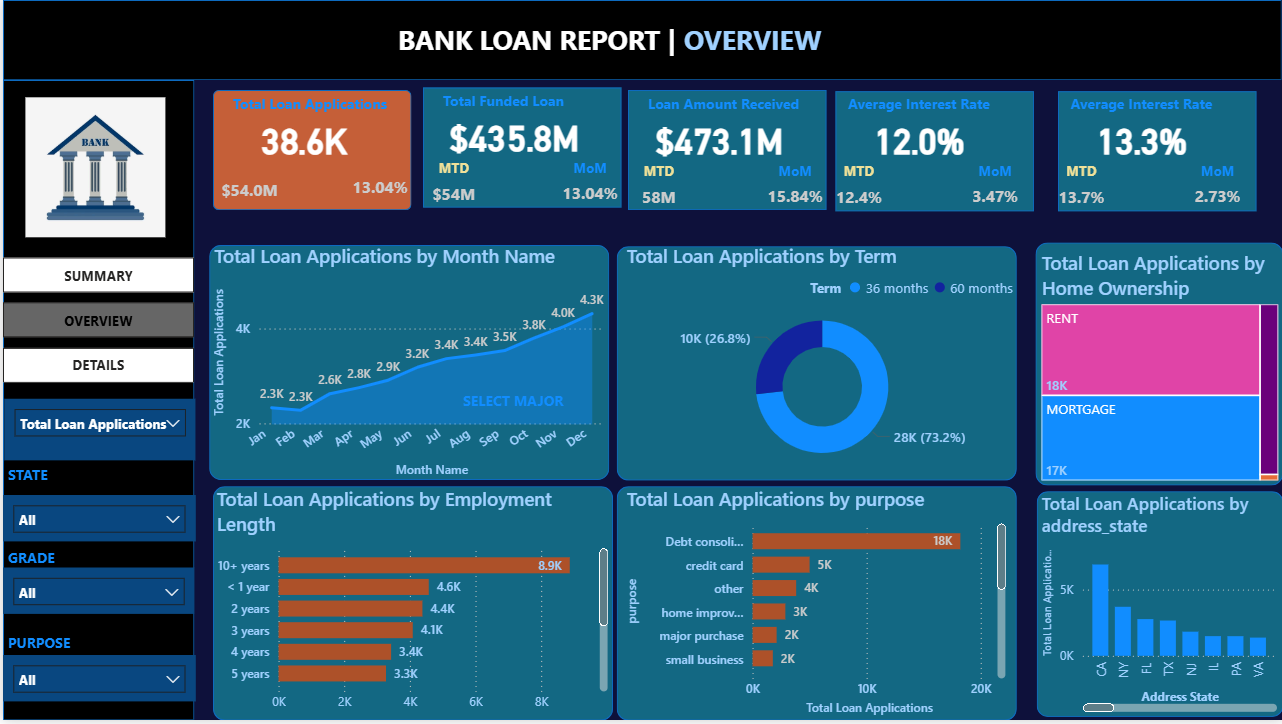

What the dashboard file says about the page in this screenshot:
{"tool":"powerbi","page":{"name":"OVERVIEW","canvas":[1280,720],"ordinal":1},"visuals":[{"type":"shape","box":[0,0,1278.8,80.3],"z":0},{"type":"shape","box":[419.6,87.3,198.5,120.2],"z":0,"group":"g2"},{"type":"shape","box":[209.8,89.7,198.5,120.2],"z":0,"group":"g1"},{"type":"shape","box":[624.5,89.7,198.5,120.2],"z":0,"group":"g3"},{"type":"shape","box":[831.5,90.4,198.5,120.2],"z":0,"group":"g4"},{"type":"shape","box":[1054.9,90.4,198.5,120.2],"z":0,"group":"g5"},{"type":"shape","box":[0,79.8,191.4,640.5],"z":1000},{"type":"card","fields":{"Values":["Date Table.Total Funded Amount"]},"box":[434.5,102.2,152.6,67.5],"z":1000,"group":"g2"},{"type":"card","fields":{"Values":["financial_loan_data_excel.Total Loan Applications"]},"box":[224.7,104.6,152.6,67.5],"z":1000,"group":"g1"},{"type":"card","fields":{"Values":["financial_loan_data_excel.Total Amount Received"]},"box":[639.4,104.6,152.6,67.5],"z":1000,"group":"g3"},{"type":"card","fields":{"Values":["financial_loan_data_excel.Average_Interest_Rate"]},"box":[839.4,104.6,152.6,67.5],"z":1000,"group":"g4"},{"type":"card","fields":{"Values":["financial_loan_data_excel.Average_Interest_DTI"]},"box":[1062.8,104.6,152.6,67.5],"z":1000,"group":"g5"},{"type":"textbox","box":[389.7,16.5,447.3,46.7],"z":2000},{"type":"textbox","box":[435,85.9,182.5,31.6],"z":2000,"group":"g2"},{"type":"textbox","box":[225.2,88.3,182.5,31.6],"z":2000,"group":"g1"},{"type":"textbox","box":[639.9,88.3,182.5,31.6],"z":2000,"group":"g3"},{"type":"textbox","box":[839.9,88.3,182.5,31.6],"z":2000,"group":"g4"},{"type":"textbox","box":[1063.3,88.3,182.5,31.6],"z":2000,"group":"g5"},{"type":"textbox","box":[454.7,385.7,118.8,38.3],"z":2000,"group":"g10"},{"type":"textbox","box":[0,460.1,183.1,36.9],"z":2000,"group":"g11"},{"type":"textbox","box":[0,542.3,171.1,37],"z":2000,"group":"g6"},{"type":"textbox","box":[0,627,171.1,37],"z":2000,"group":"g8"},{"type":"group","id":"g1","title":"Group 1","box":[209.8,88.3,205.3,130.9],"z":3000},{"type":"card","title":"MTD","fields":{"Values":["financial_loan_data_excel.MTD Loan Applications"]},"box":[419.6,158.9,62.1,58.1],"z":3000,"group":"g2"},{"type":"card","title":"MTD","fields":{"Values":["financial_loan_data_excel.MTD Amount Received"]},"box":[624.5,161.3,62.1,58.1],"z":3000,"group":"g3"},{"type":"card","title":"MTD","fields":{"Values":["financial_loan_data_excel.MTD Average Int"]},"box":[824.5,161.3,62.1,58.1],"z":3000,"group":"g4"},{"type":"card","title":"MTD","fields":{"Values":["financial_loan_data_excel.MTD Amount DTI"]},"box":[1047.9,161.3,62.1,58.1],"z":3000,"group":"g5"},{"type":"card","title":"MTD","fields":{"Values":["financial_loan_data_excel.MTD Loan Applications"]},"box":[210,166.4,73.6,52.8],"z":3000,"group":"g1"},{"type":"group","id":"g2","title":"Group 1","box":[419.6,85.9,204.9,130.1],"z":4000},{"type":"card","title":"MoM","fields":{"Values":["Date Table.MoM Loan Application"]},"box":[547.9,158.9,77,55.4],"z":4000,"group":"g2"},{"type":"card","title":"MoM","fields":{"Values":["Date Table.MoM Loan Application"]},"box":[338.1,161.3,77,55.4],"z":4000,"group":"g1"},{"type":"card","title":"MoM","fields":{"Values":["Date Table.MoM Loan Received %"]},"box":[752.8,161.3,77,55.4],"z":4000,"group":"g3"},{"type":"card","title":"MoM","fields":{"Values":["Date Table.MoM Average Interest Rate %"]},"box":[952.8,161.3,77,55.4],"z":4000,"group":"g4"},{"type":"card","title":"MoM","fields":{"Values":["Date Table.MoM Loan DTI %"]},"box":[1176.2,161.3,77,55.4],"z":4000,"group":"g5"},{"type":"group","id":"g3","title":"Group 1","box":[624.5,88.3,204.9,130.1],"z":5000},{"type":"group","id":"g4","title":"Group 1","box":[824.5,88.3,204.9,131.3],"z":6000},{"type":"group","id":"g5","title":"Group 1","box":[1047.9,88.3,204.9,130.1],"z":7000},{"type":"shape","box":[206.1,245.4,400,235],"z":8000},{"type":"slicer","fields":{"Values":["financial_loan_data_excel.grade"]},"box":[0,568.1,191.4,46.6],"z":9000},{"type":"group","id":"g6","title":"Group 1","box":[0,542.3,170.6,36.8],"z":10000},{"type":"group","id":"g7","title":"Group 2","box":[0,460.1,192.6,82.2],"z":11000},{"type":"slicer","fields":{"Values":["financial_loan_data_excel.purpose"]},"box":[0,655.2,192.6,46.6],"z":12000},{"type":"group","id":"g8","title":"Group 1","box":[0,627,170.6,36.8],"z":13000},{"type":"areaChart","fields":{"Y":["financial_loan_data_excel.Total Loan Applications"],"Category":["Date Table.Month Name"]},"box":[205.6,242.7,399.8,240.1],"z":14000},{"type":"slicer","fields":{"Values":["Select Major.Select Major"]},"box":[1.2,398.8,191.4,61.4],"z":15000},{"type":"group","id":"g9","title":"Group 2","box":[454.7,385.7,118.8,38.3],"z":16000},{"type":"slicer","fields":{"Values":["financial_loan_data_excel.address_state"]},"box":[0,495.7,192.6,46.6],"z":16000,"group":"g7"},{"type":"shape","box":[613.5,246.6,400,234.4],"z":17000},{"type":"group","id":"g10","title":"Group 1","box":[454.7,385.7,118.8,38.3],"z":17000,"group":"g9"},{"type":"group","id":"g11","title":"Group 1","box":[0,460.1,182.8,36.8],"z":17000,"group":"g7"},{"type":"shape","box":[209.8,485.9,400,234.4],"z":17001},{"type":"shape","box":[613.5,485.9,400,234.4],"z":17002},{"type":"donutChart","fields":{"Category":["financial_loan_data_excel.term"],"Y":["financial_loan_data_excel.Total Loan Applications"]},"box":[618.4,242.9,401.2,234.4],"z":17003},{"type":"clusteredBarChart","fields":{"Category":["financial_loan_data_excel.emp_length"],"Y":["financial_loan_data_excel.Total Loan Applications"]},"box":[208.6,485.9,401.2,234.4],"z":17004},{"type":"barChart","fields":{"Category":["financial_loan_data_excel.purpose"],"Y":["financial_loan_data_excel.Total Loan Applications"]},"box":[618.4,485.9,389,234.4],"z":17005},{"type":"shape","box":[1031.9,242.9,247.9,242.9],"z":17006},{"type":"treemap","fields":{"Group":["financial_loan_data_excel.home_ownership"],"Values":["financial_loan_data_excel.Total Loan Applications"]},"box":[1033.1,250.3,246.6,235.6],"z":17007},{"type":"shape","box":[1033.1,490.8,246.6,225.8],"z":17008},{"type":"clusteredColumnChart","fields":{"Category":["financial_loan_data_excel.address_state"],"Y":["financial_loan_data_excel.Total Loan Applications"]},"box":[1033.1,490.8,245.4,225.8],"z":17009},{"type":"pageNavigator","box":[0,257.7,191.4,127.6],"z":17010},{"type":"image","box":[0,92,185.3,149.7],"z":17011}]}

Visuals, with their boxes in screenshot pixels (x1, y1, x2, y2), scaled from the page's 1280x720 canvas onto the 1282x724 screenshot:
shape: select_region(0, 0, 1281, 81)
shape: select_region(420, 88, 619, 209)
shape: select_region(210, 90, 409, 211)
shape: select_region(625, 90, 824, 211)
shape: select_region(833, 91, 1032, 212)
shape: select_region(1057, 91, 1255, 212)
shape: select_region(0, 80, 192, 723)
card - Date Table.Total Funded Amount: select_region(435, 103, 588, 171)
card - financial_loan_data_excel.Total Loan Applications: select_region(225, 105, 378, 173)
card - financial_loan_data_excel.Total Amount Received: select_region(640, 105, 793, 173)
card - financial_loan_data_excel.Average_Interest_Rate: select_region(841, 105, 994, 173)
card - financial_loan_data_excel.Average_Interest_DTI: select_region(1064, 105, 1217, 173)
textbox: select_region(390, 17, 838, 64)
textbox: select_region(436, 86, 618, 118)
textbox: select_region(226, 89, 408, 121)
textbox: select_region(641, 89, 824, 121)
textbox: select_region(841, 89, 1024, 121)
textbox: select_region(1065, 89, 1248, 121)
textbox: select_region(455, 388, 574, 426)
textbox: select_region(0, 463, 183, 500)
textbox: select_region(0, 545, 171, 583)
textbox: select_region(0, 630, 171, 668)
"Group 1" group: select_region(210, 89, 416, 220)
"MTD" card: select_region(420, 160, 482, 218)
"MTD" card: select_region(625, 162, 688, 221)
"MTD" card: select_region(826, 162, 888, 221)
"MTD" card: select_region(1050, 162, 1112, 221)
"MTD" card: select_region(210, 167, 284, 220)
"Group 1" group: select_region(420, 86, 625, 217)
"MoM" card: select_region(549, 160, 626, 215)
"MoM" card: select_region(339, 162, 416, 218)
"MoM" card: select_region(754, 162, 831, 218)
"MoM" card: select_region(954, 162, 1031, 218)
"MoM" card: select_region(1178, 162, 1255, 218)
"Group 1" group: select_region(625, 89, 831, 220)
"Group 1" group: select_region(826, 89, 1031, 221)
"Group 1" group: select_region(1050, 89, 1255, 220)
shape: select_region(206, 247, 607, 483)
slicer - financial_loan_data_excel.grade: select_region(0, 571, 192, 618)
"Group 1" group: select_region(0, 545, 171, 582)
"Group 2" group: select_region(0, 463, 193, 545)
slicer - financial_loan_data_excel.purpose: select_region(0, 659, 193, 706)
"Group 1" group: select_region(0, 630, 171, 667)
areaChart - financial_loan_data_excel.Total Loan Applications x Date Table.Month Name: select_region(206, 244, 606, 485)
slicer - Select Major.Select Major: select_region(1, 401, 193, 463)
"Group 2" group: select_region(455, 388, 574, 426)
slicer - financial_loan_data_excel.address_state: select_region(0, 498, 193, 545)
shape: select_region(614, 248, 1015, 484)
"Group 1" group: select_region(455, 388, 574, 426)
"Group 1" group: select_region(0, 463, 183, 500)
shape: select_region(210, 489, 611, 723)
shape: select_region(614, 489, 1015, 723)
donutChart - financial_loan_data_excel.term x financial_loan_data_excel.Total Loan Applications: select_region(619, 244, 1021, 480)
clusteredBarChart - financial_loan_data_excel.emp_length x financial_loan_data_excel.Total Loan Applications: select_region(209, 489, 611, 723)
barChart - financial_loan_data_excel.purpose x financial_loan_data_excel.Total Loan Applications: select_region(619, 489, 1009, 723)
shape: select_region(1034, 244, 1281, 488)
treemap - financial_loan_data_excel.home_ownership x financial_loan_data_excel.Total Loan Applications: select_region(1035, 252, 1281, 489)
shape: select_region(1035, 494, 1281, 721)
clusteredColumnChart - financial_loan_data_excel.address_state x financial_loan_data_excel.Total Loan Applications: select_region(1035, 494, 1280, 721)
pageNavigator: select_region(0, 259, 192, 387)
image: select_region(0, 93, 186, 243)
